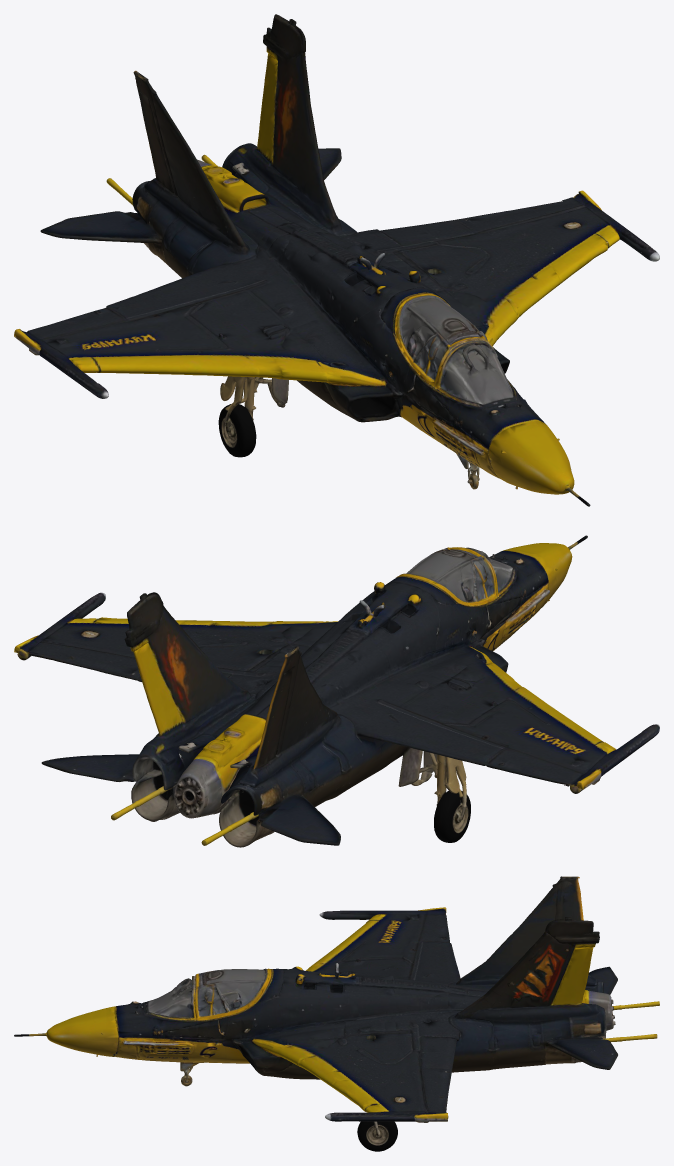
Rendered from falcon.glb.
The picture shows the model from 3 angles, top to bottom: view 1: azimuth 30°, elevation 25°; view 2: azimuth 150°, elevation 25°; view 3: azimuth 270°, elevation 25°; orthographic projection. The views are drawn at different scales.
Visible parts, largest first — view 1: tripo_node_0ef6bb45-339a-4f86-968f-4d7af5e9a18a; view 2: tripo_node_0ef6bb45-339a-4f86-968f-4d7af5e9a18a; view 3: tripo_node_0ef6bb45-339a-4f86-968f-4d7af5e9a18a.
Part boxes in pixels (x1=…): tripo_node_0ef6bb45-339a-4f86-968f-4d7af5e9a18a: x1=14, y1=14, x2=659, y2=506; tripo_node_0ef6bb45-339a-4f86-968f-4d7af5e9a18a: x1=14, y1=535, x2=659, y2=847; tripo_node_0ef6bb45-339a-4f86-968f-4d7af5e9a18a: x1=14, y1=876, x2=659, y2=1151.
Bounding box in the file's own units: 0.7484 × 0.3709 × 0.9821.
1 material, 1 textured.
